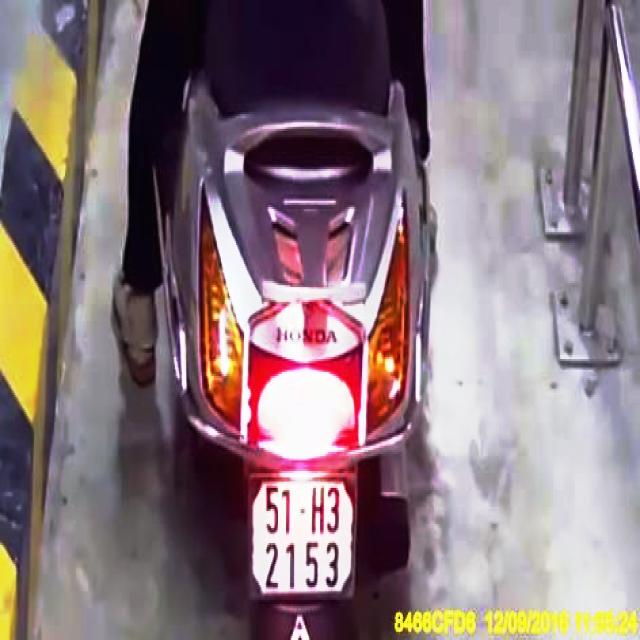license_plate: (248, 476, 358, 602)
